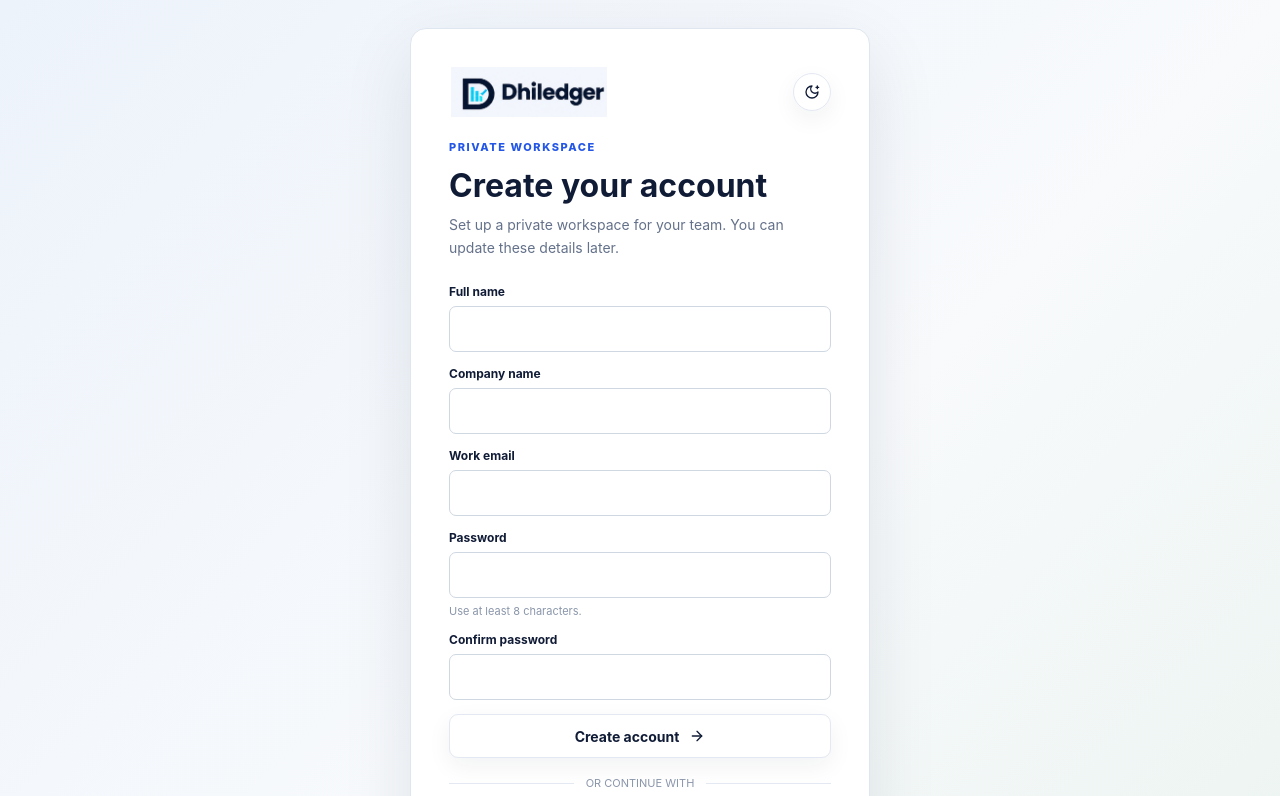
Scenario: SignUpPage › creates an account with name and company metadata and requests email confirmation
Step 1. Type "Taylor Morgan" into the field labelled "Full name" → (640, 329), box [449, 306, 831, 352]
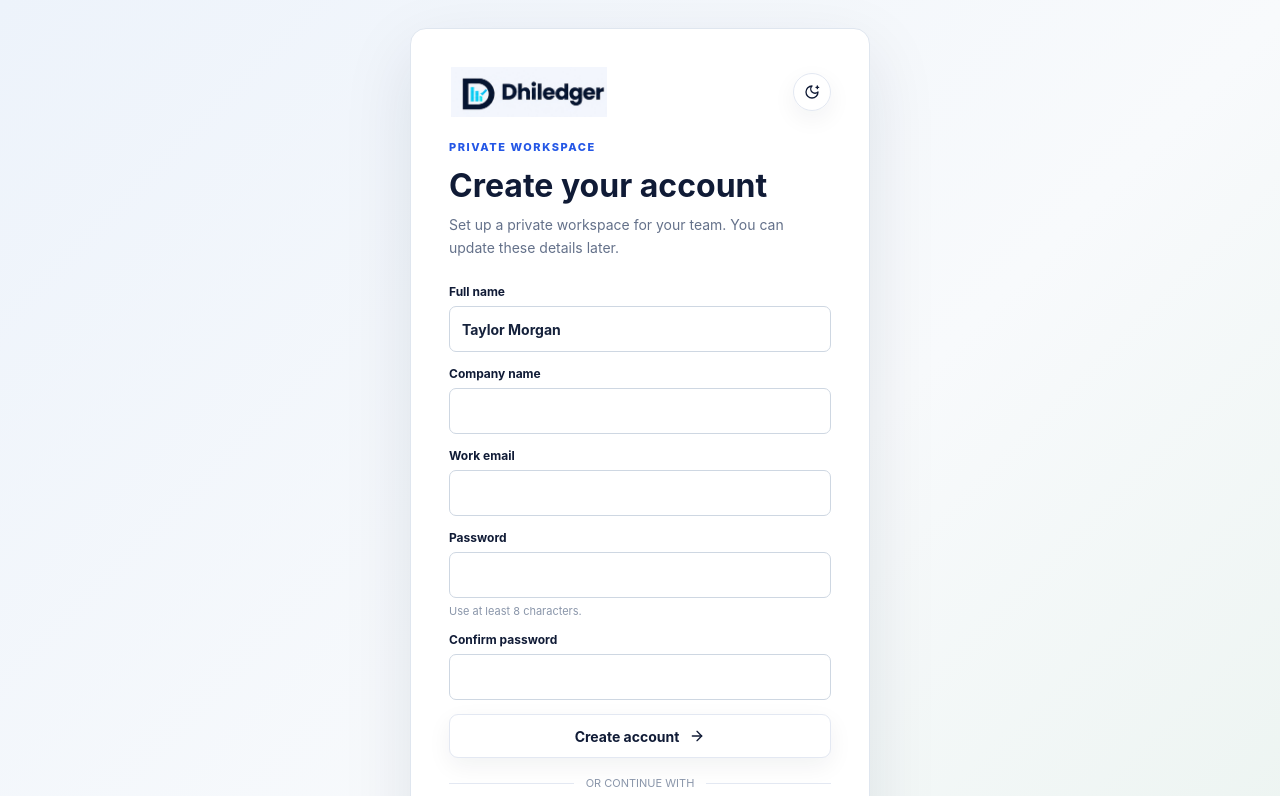
Step 2. Type "Northstar" into the field labelled "Company name" → (640, 411), box [449, 388, 831, 434]
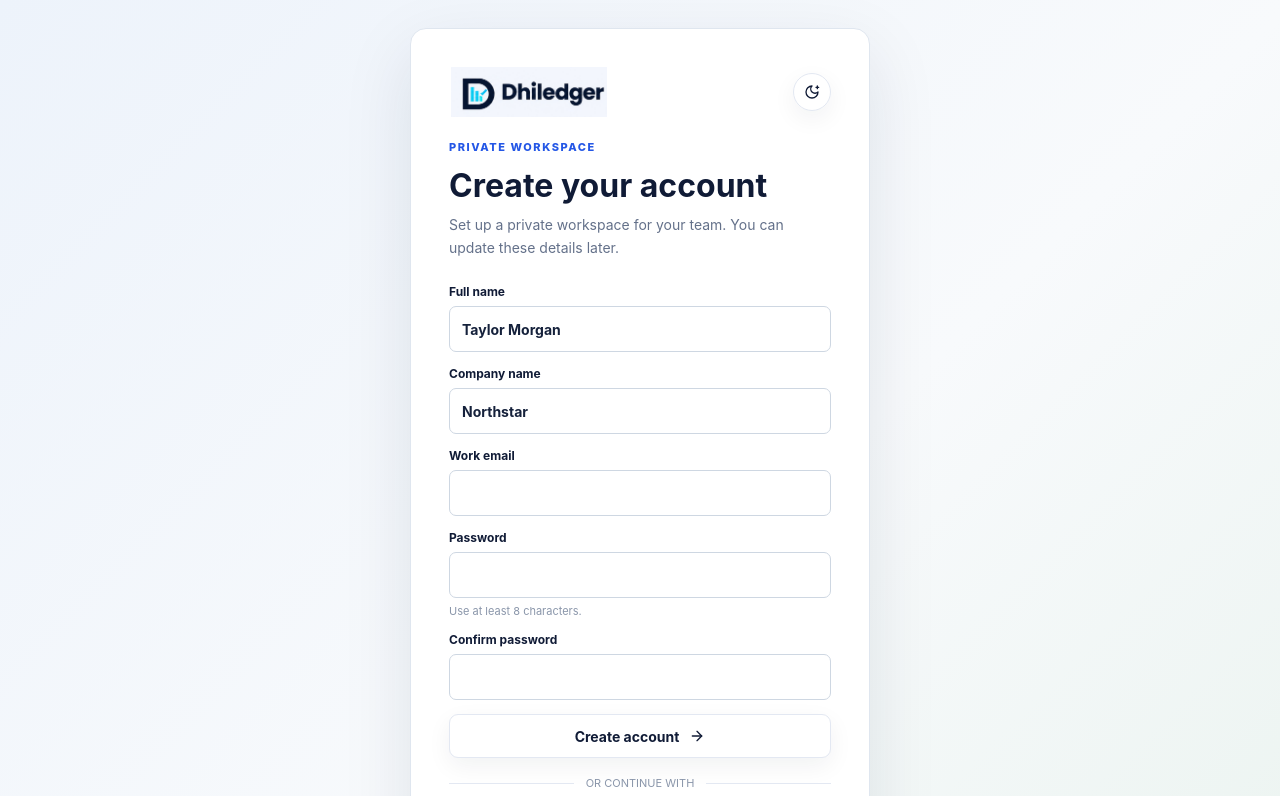
Step 3. Type "taylor@example.com" into the field labelled "Work email" → (640, 493), box [449, 470, 831, 516]
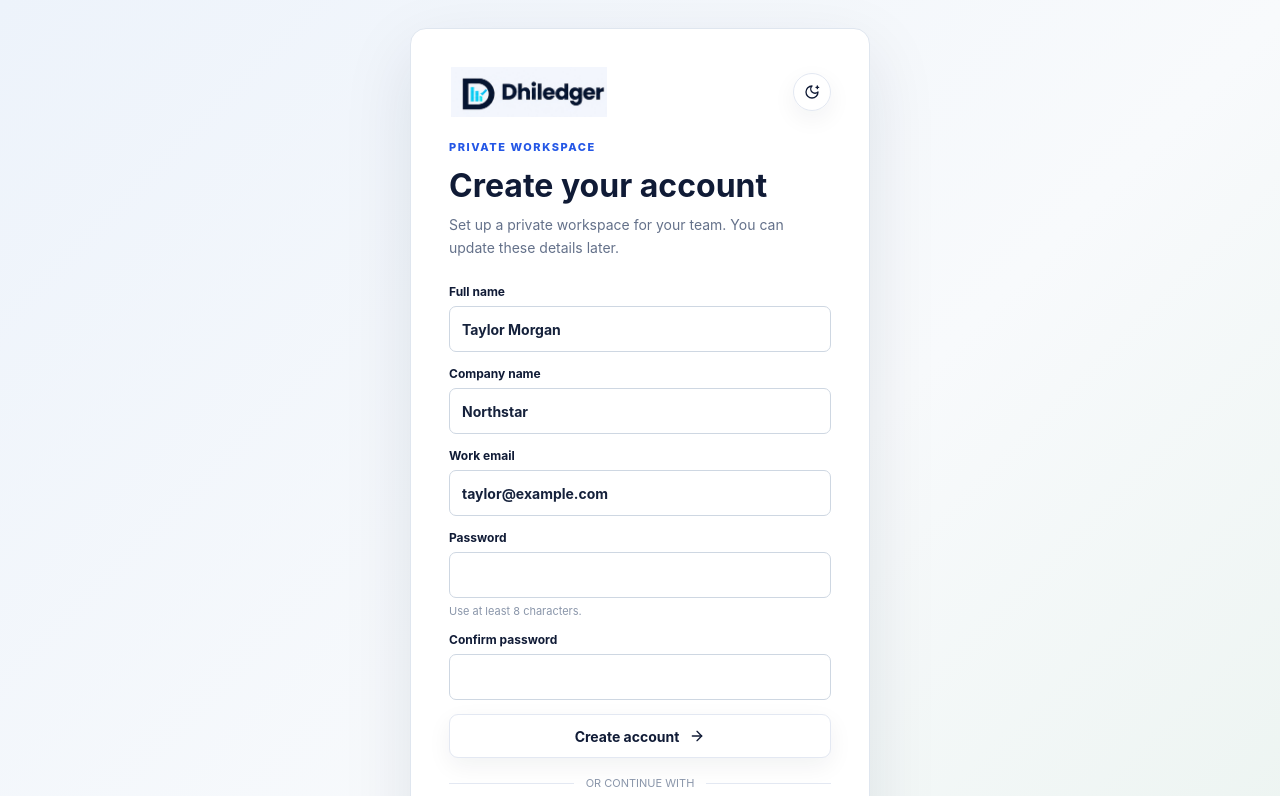
Step 4. Type "Password123!" into the password field labelled "Password" → (640, 575), box [449, 552, 831, 598]
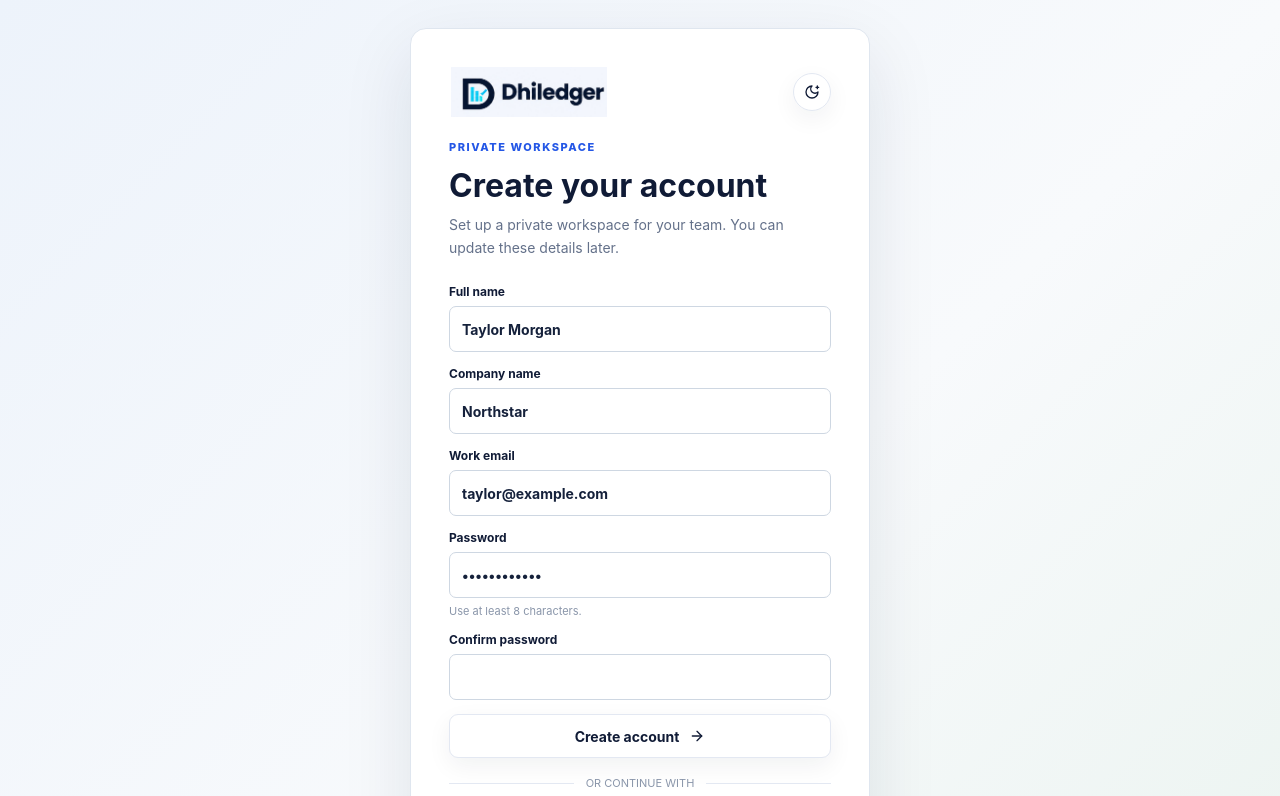
Step 5. Type "Password123!" into the password field labelled "Confirm password" → (640, 677), box [449, 654, 831, 700]
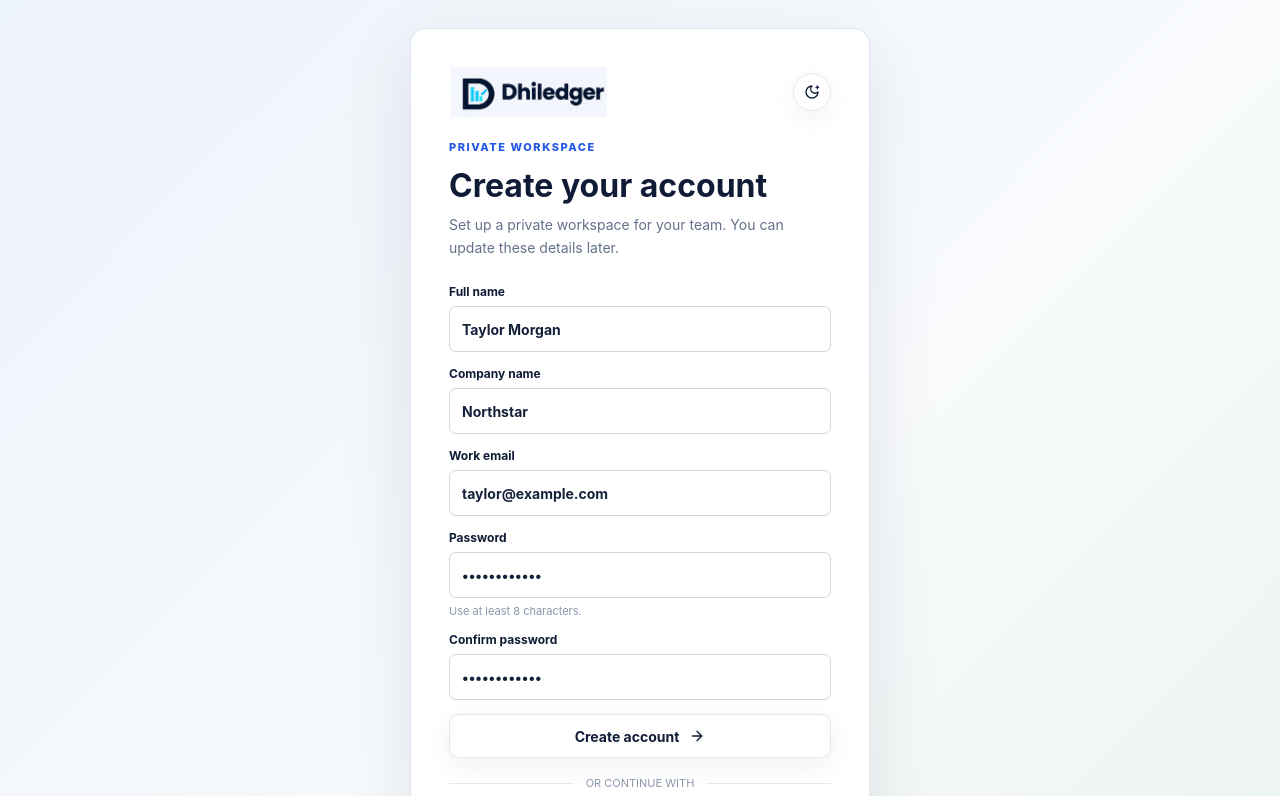
Step 6. Click the button "Create account" → (640, 736), box [449, 714, 831, 758]
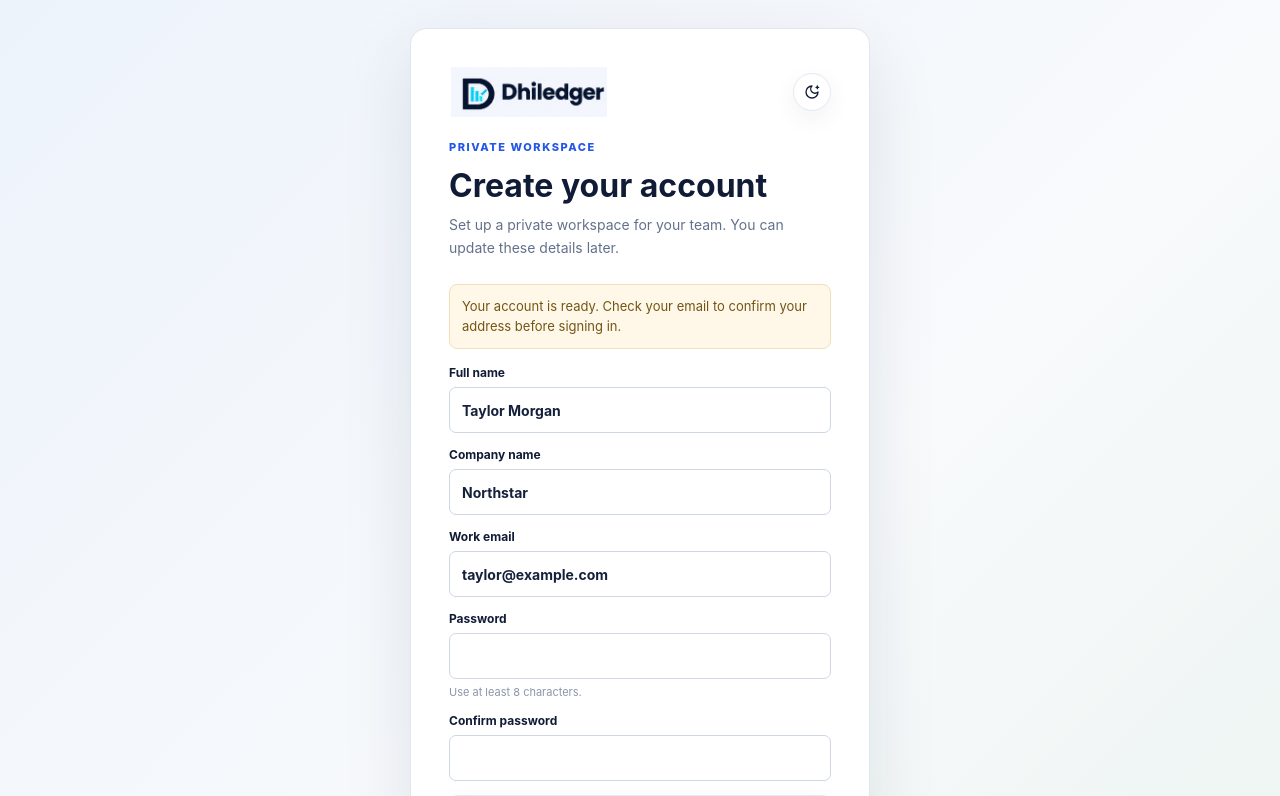
expect the message shows "Check your email to confirm your address": met, box [462, 298, 807, 334]
